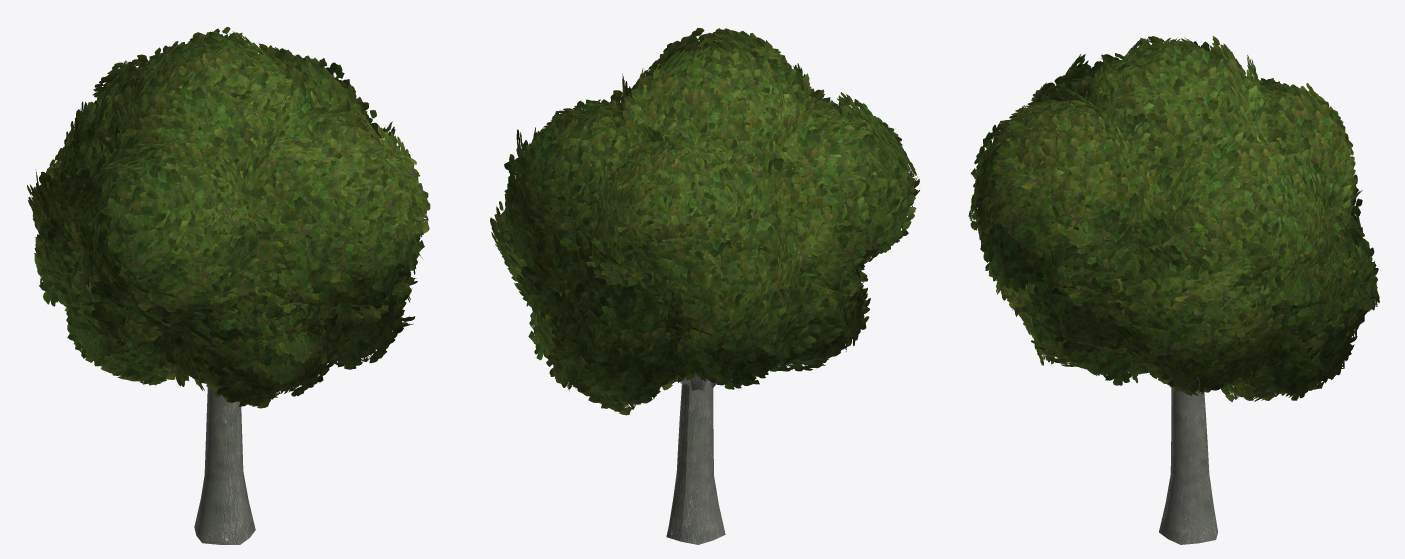
Rendered from beech_b-LCpHPjU1.glb.
The picture shows the model from 3 angles, left to right: view 1: azimuth 30°, elevation 25°; view 2: azimuth 150°, elevation 25°; view 3: azimuth 270°, elevation 25°; orthographic projection. The views are drawn at different scales.
Visible parts, largest first — view 1: leaves, bark; view 2: leaves, bark; view 3: leaves, bark.
Part boxes in pixels (left/top/right/bottom): leaves: left=27, top=27, right=430, bottom=408; bark: left=194, top=387, right=255, bottom=544; leaves: left=490, top=28, right=919, bottom=415; bark: left=666, top=373, right=725, bottom=544; leaves: left=968, top=36, right=1379, bottom=401; bark: left=1159, top=378, right=1217, bottom=544.
Bounding box in the file's own units: 11.36 × 14.33 × 11.22.
Materials: 2 (2 with a texture image).
